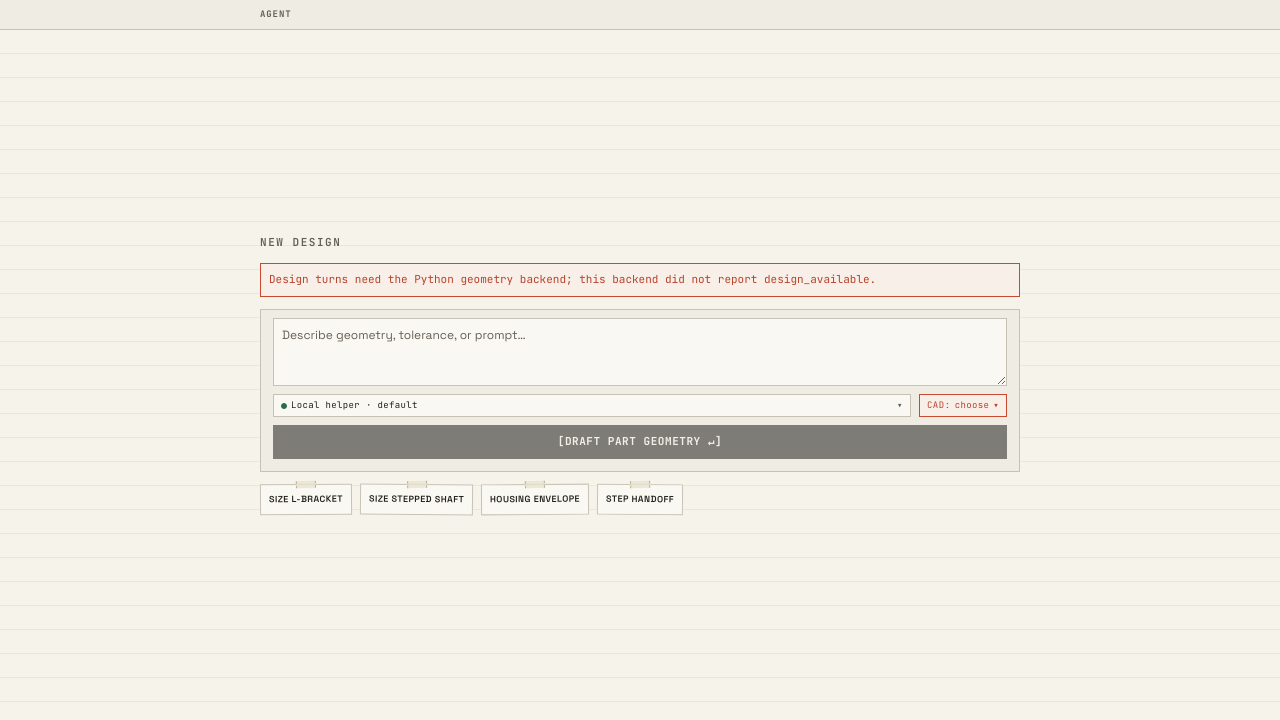
Test: ChatPanel state transitions › enables Send for the local helper without a model
Click the button "Local helper · default ▾": click(326, 405) 273,394 -> 911,417
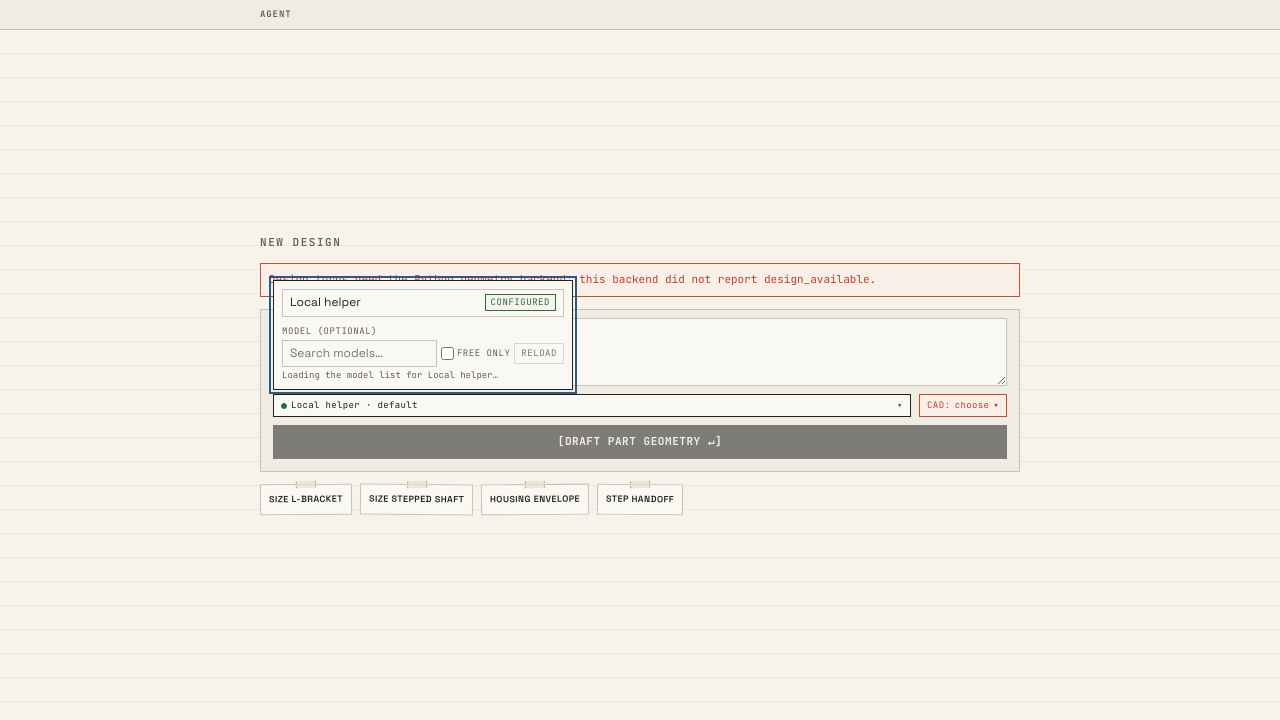
Click the button "Local helper Configured": click(325, 302) 282,289 -> 564,317
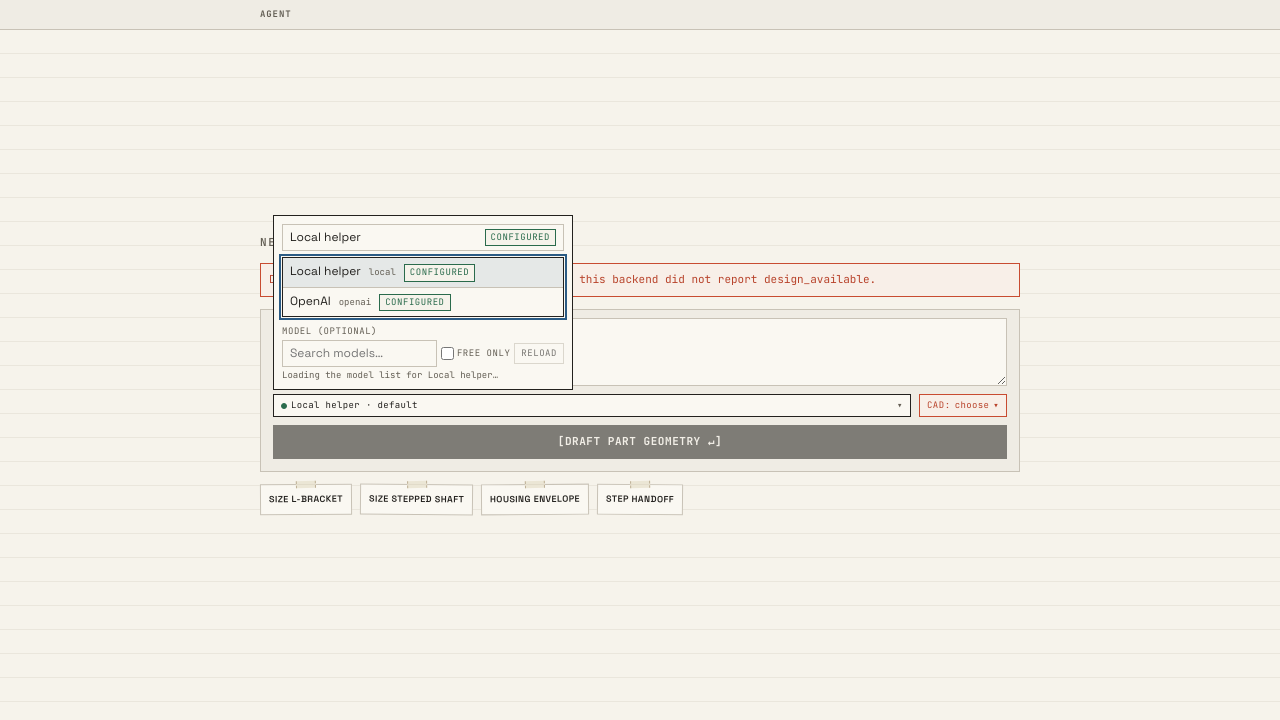
Click the option "Local helper local Configured": click(423, 273) 283,258 -> 563,288
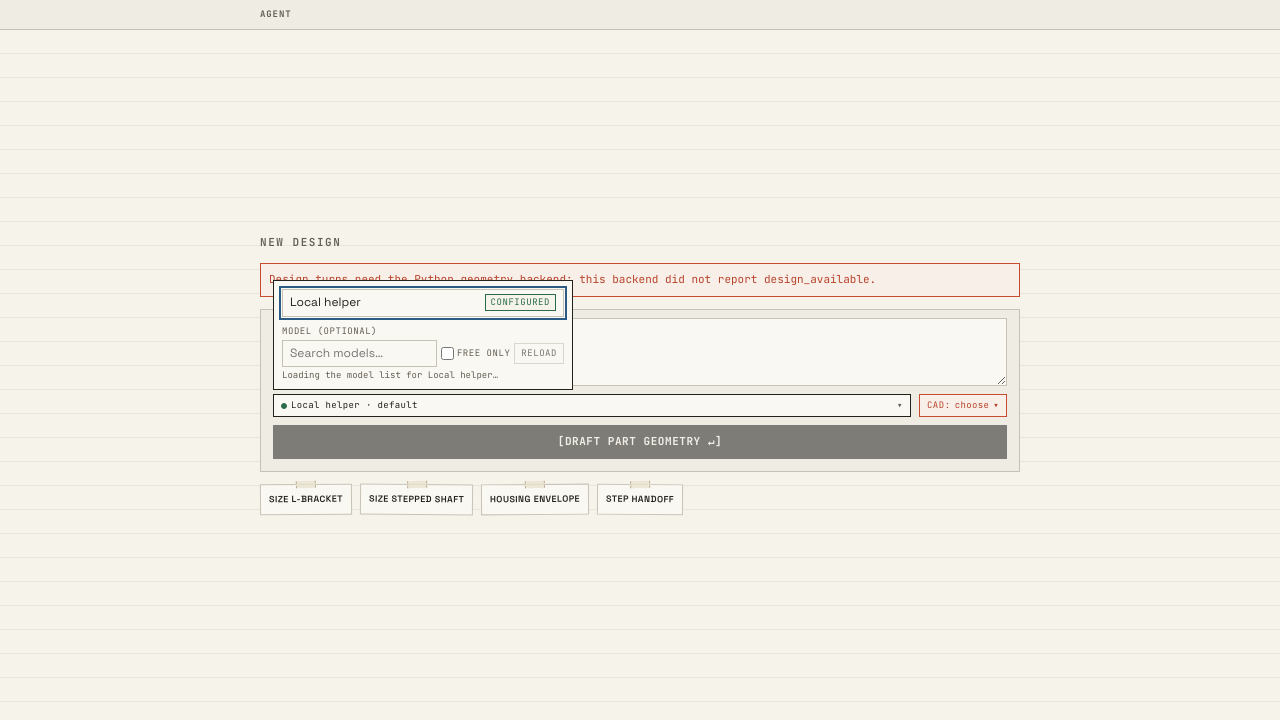
In the text box with placeholder "Describe geometry, tolerance, or prompt…": (640, 352) 273,318 -> 1007,386, type "summarise this"
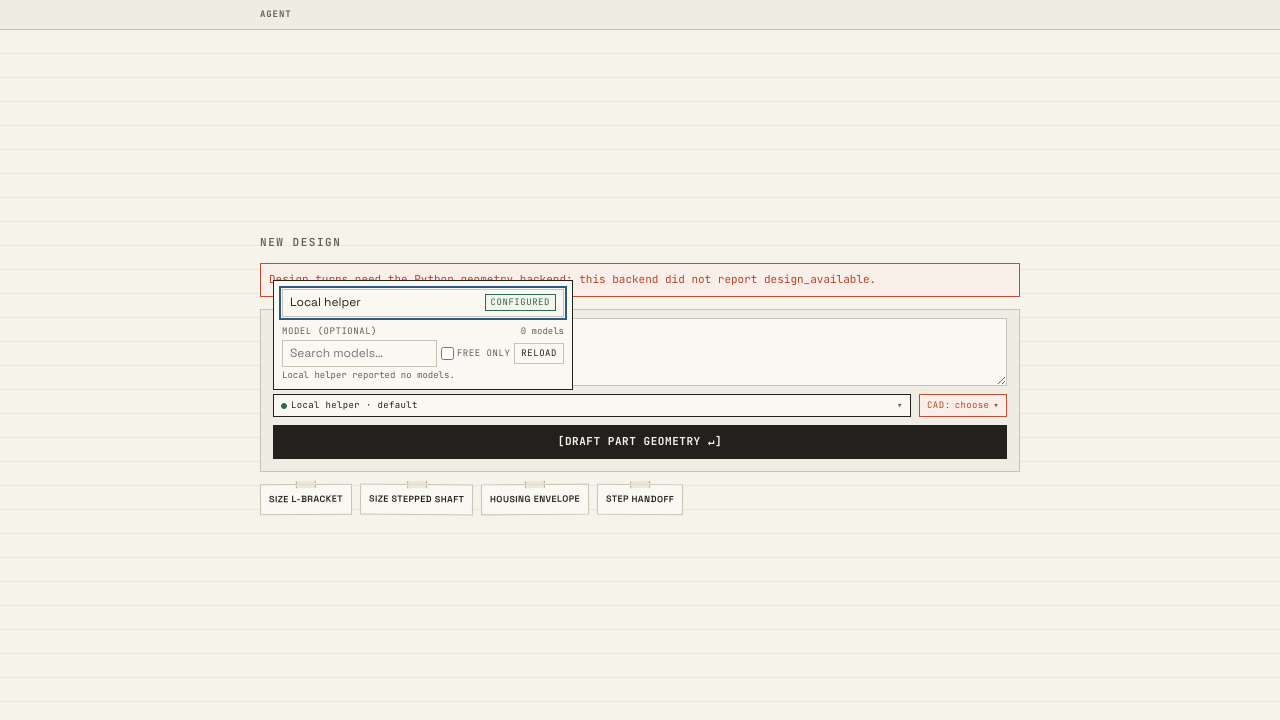
Expected: the button with class "chat-panel-send" is enabled, 273,425 -> 1007,459
